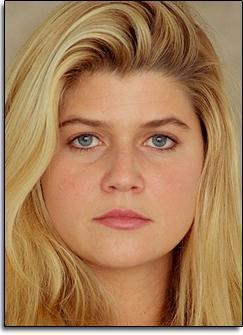Sober: (55, 82, 197, 251)
